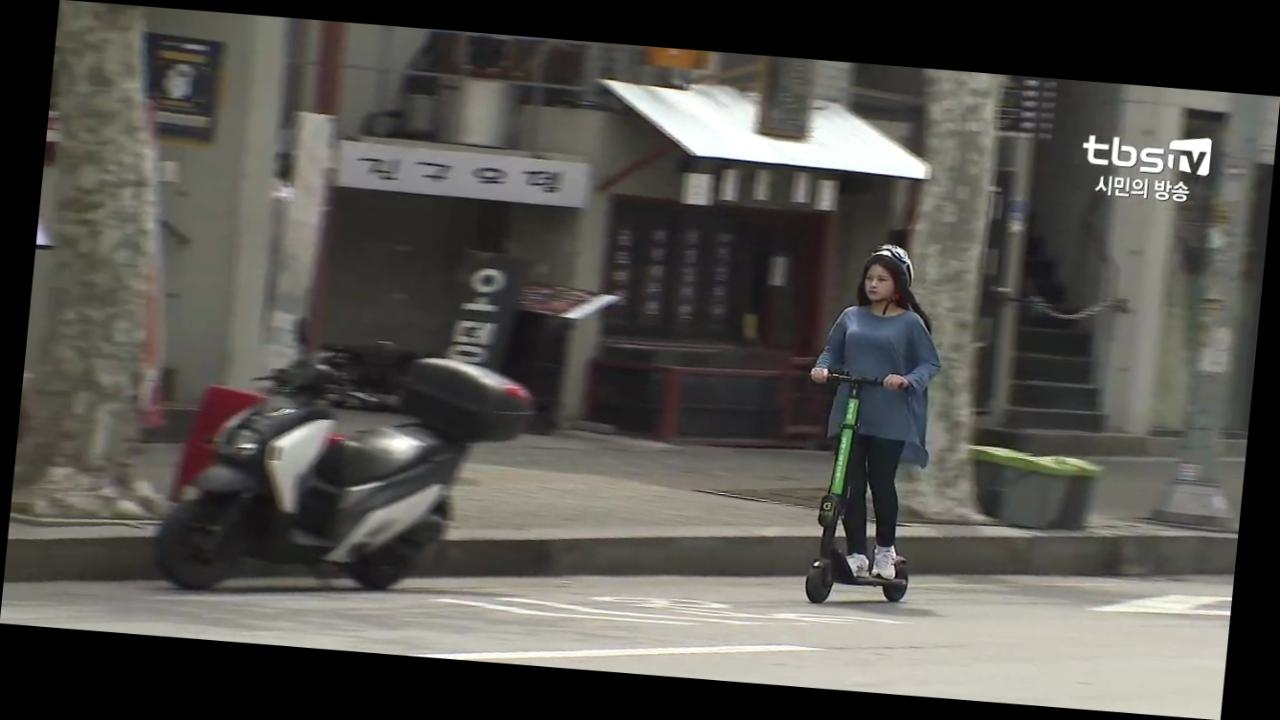helmet: (784, 235, 955, 609)
